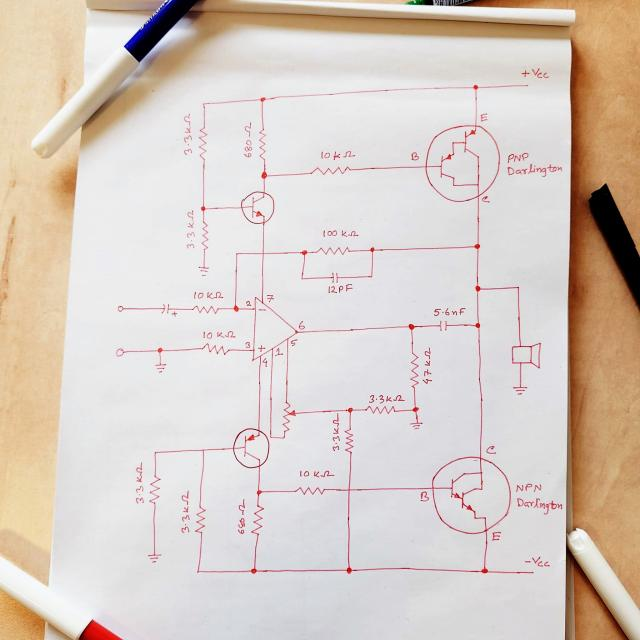capacitor: (160, 302, 178, 318), (438, 320, 449, 332), (330, 270, 339, 282)
crossover: (345, 486, 353, 493), (260, 249, 266, 257)
ground: (153, 362, 168, 374), (511, 385, 528, 395), (197, 265, 210, 277), (147, 553, 162, 563), (409, 420, 423, 430)
junction: (259, 170, 269, 180), (473, 320, 482, 330), (406, 322, 416, 331), (472, 284, 482, 293), (254, 488, 264, 497), (410, 404, 420, 413), (258, 95, 267, 104), (299, 248, 308, 257), (472, 242, 482, 250), (249, 566, 259, 574), (344, 566, 353, 574), (480, 566, 489, 574), (200, 204, 208, 213), (471, 82, 479, 91), (231, 304, 240, 312), (156, 346, 164, 354), (368, 246, 376, 254), (346, 406, 354, 414), (200, 100, 208, 108), (194, 568, 202, 575), (233, 250, 240, 258), (199, 446, 206, 454), (298, 274, 306, 281), (368, 272, 374, 280), (152, 449, 158, 456), (515, 284, 521, 290), (281, 435, 287, 440), (269, 434, 273, 439)
resistor: (250, 502, 265, 536), (147, 472, 162, 506), (310, 164, 352, 176), (281, 401, 296, 432), (196, 124, 208, 162), (193, 502, 207, 534), (294, 483, 326, 497), (200, 342, 232, 356), (256, 125, 268, 162), (316, 244, 352, 256), (408, 352, 419, 389), (199, 217, 210, 252), (364, 404, 399, 415), (191, 303, 220, 315), (342, 428, 354, 453)
terminal: (115, 348, 126, 357), (116, 305, 125, 312), (528, 569, 535, 575), (525, 82, 530, 88)
text: (505, 162, 563, 178), (515, 495, 563, 514), (178, 490, 192, 532), (181, 112, 194, 156), (133, 462, 145, 504), (184, 209, 196, 250), (432, 304, 467, 318), (235, 499, 248, 535), (318, 149, 356, 161), (296, 468, 336, 479), (320, 228, 360, 239), (242, 121, 253, 159), (330, 412, 340, 452), (514, 481, 544, 494), (422, 346, 432, 385), (201, 329, 236, 340), (524, 554, 550, 568), (368, 394, 406, 403), (522, 67, 550, 79), (192, 290, 225, 300), (326, 283, 354, 294), (507, 150, 530, 162), (485, 443, 497, 455), (490, 530, 502, 542), (418, 491, 430, 502), (410, 150, 420, 162), (265, 293, 275, 303), (273, 346, 283, 356), (260, 357, 270, 367), (479, 112, 488, 123), (481, 194, 491, 203), (244, 298, 253, 308), (298, 320, 306, 330), (244, 340, 252, 349), (290, 337, 298, 346)
transistor: (430, 452, 512, 535), (424, 125, 501, 206), (231, 427, 271, 469), (237, 190, 275, 227)
